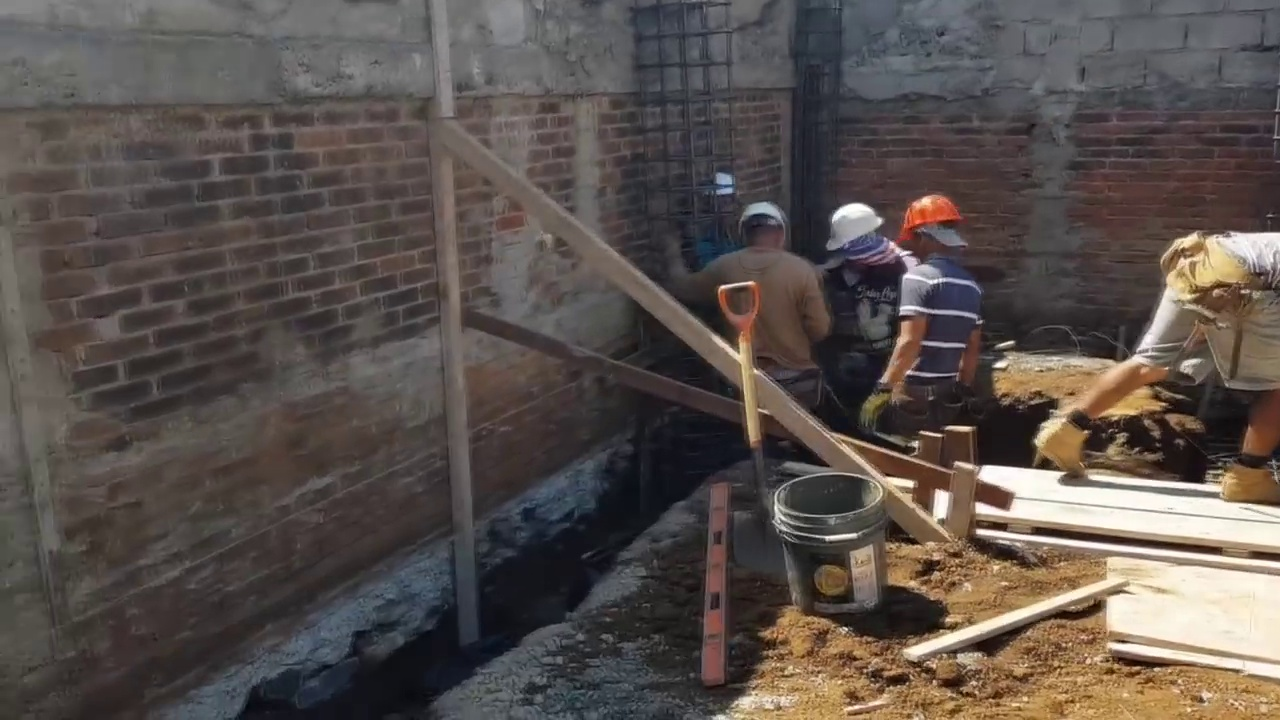helmet: (904, 195, 964, 245), (825, 202, 879, 244), (739, 202, 785, 241)
helmet-on: (903, 195, 973, 270), (827, 201, 898, 272), (739, 202, 788, 257)
person: (1051, 218, 1280, 483), (686, 197, 827, 429), (874, 194, 985, 447), (818, 194, 901, 405)
